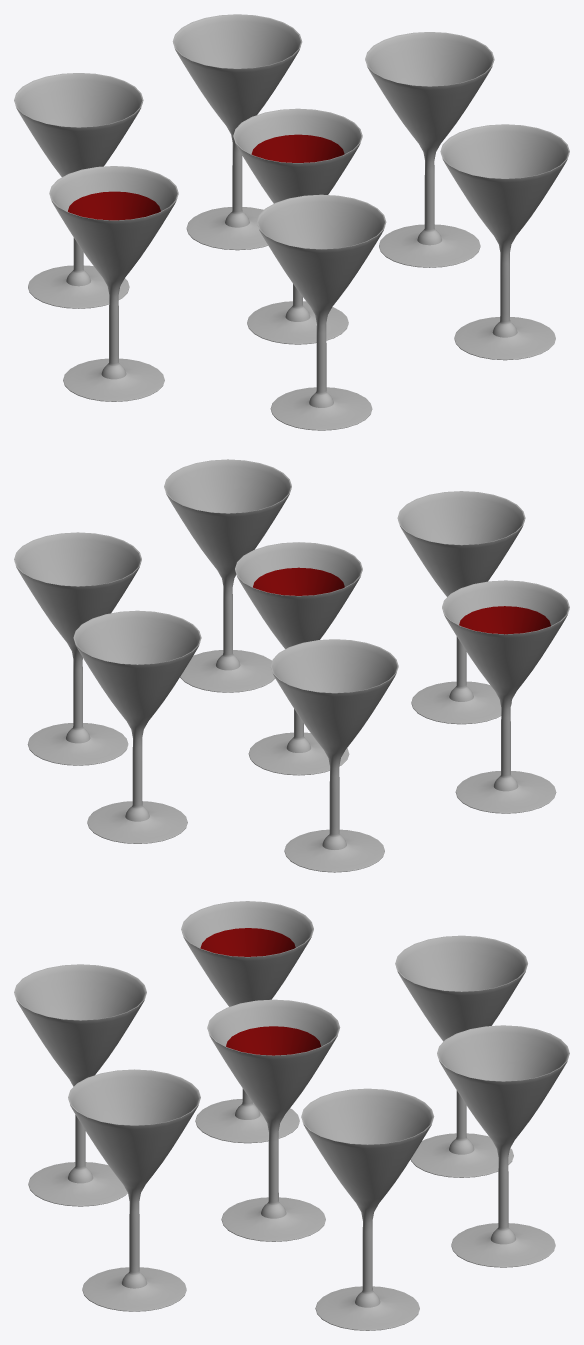
File: glass.obj
3 views of the same model, one above another, from view 1: azimuth 30°, elevation 25°; view 2: azimuth 150°, elevation 25°; view 3: azimuth 270°, elevation 25° (orthographic). The views are drawn at different scales.
Visible parts, largest first — view 1: Círculo.005, Círculo.001, Círculo.006, Círculo.002, Círculo.003, Círculo.004, Círculo, Círculo.009, Círculo.007; view 2: Círculo.002, Círculo.003, Círculo.006, Círculo.001, Círculo.005, Círculo.004, Círculo, Círculo.007, Círculo.009; view 3: Círculo.002, Círculo.001, Círculo.006, Círculo.005, Círculo.003, Círculo, Círculo.004, Círculo.007, Círculo.009.
Boxes of the visible parts, box(x1,y1,x2,y2) form: Círculo.005: box(257, 194, 386, 430); Círculo.001: box(365, 32, 494, 267); Círculo.006: box(440, 124, 569, 360); Círculo.002: box(172, 14, 302, 250); Círculo.003: box(14, 73, 143, 308); Círculo.004: box(49, 166, 178, 401); Círculo: box(233, 108, 362, 344); Círculo.009: box(68, 191, 160, 220); Círculo.007: box(251, 134, 344, 162); Círculo.002: box(73, 610, 201, 843); Círculo.003: box(270, 639, 398, 872); Círculo.006: box(164, 459, 291, 692); Círculo.001: box(14, 532, 141, 765); Círculo.005: box(397, 491, 525, 724); Círculo.004: box(442, 580, 569, 813); Círculo: box(235, 542, 362, 775); Círculo.007: box(253, 567, 344, 595); Círculo.009: box(459, 606, 550, 634); Círculo.002: box(437, 1025, 569, 1267); Círculo.001: box(301, 1088, 434, 1330); Círculo.006: box(68, 1069, 200, 1311); Círculo.005: box(14, 964, 146, 1206); Círculo.003: box(395, 935, 527, 1177); Círculo: box(207, 999, 340, 1241); Círculo.004: box(181, 901, 313, 1143); Círculo.007: box(226, 1026, 321, 1055); Círculo.009: box(200, 928, 295, 956).
Size of the model in its own units: 8.04 by 2.96 by 7.75.
